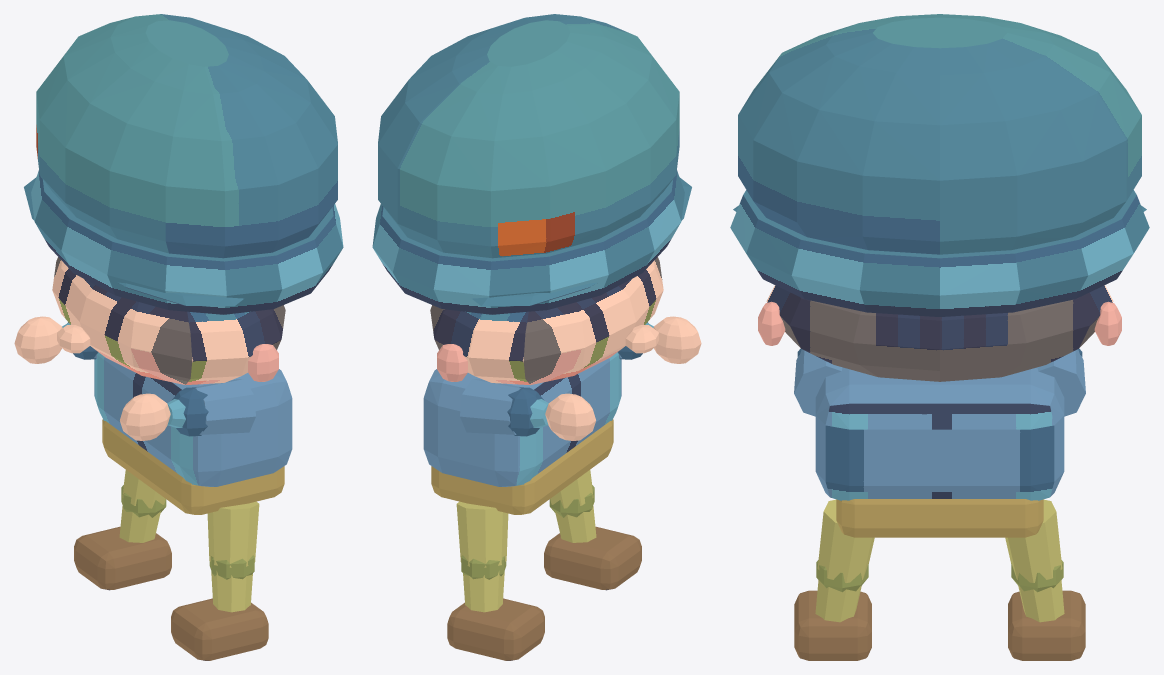
The model's file is rider.glb.
The picture shows the model from 3 angles, left to right: view 1: azimuth 30°, elevation 25°; view 2: azimuth 150°, elevation 25°; view 3: azimuth 270°, elevation 25°; orthographic projection. The views are drawn at different scales.
Visible parts, largest first — view 1: Person7_static_seated; view 2: Person7_static_seated; view 3: Person7_static_seated.
Boxes of the visible parts, left/top/right/bottom form: Person7_static_seated: left=14, top=14, right=343, bottom=660; Person7_static_seated: left=372, top=14, right=701, bottom=660; Person7_static_seated: left=730, top=14, right=1149, bottom=660.
Size of the model in its own units: 10.84 by 23.07 by 14.09.
Materials: 1 (1 with a texture image).
